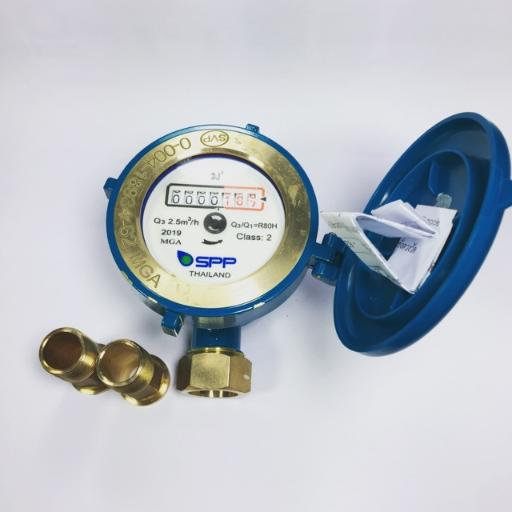0: (210, 192, 221, 209), (184, 191, 194, 206), (197, 191, 207, 206), (171, 190, 181, 204)
1: (222, 193, 232, 208)
6: (247, 193, 258, 209)
8: (234, 193, 244, 208)
border_water_meter_number: (165, 181, 266, 211)
